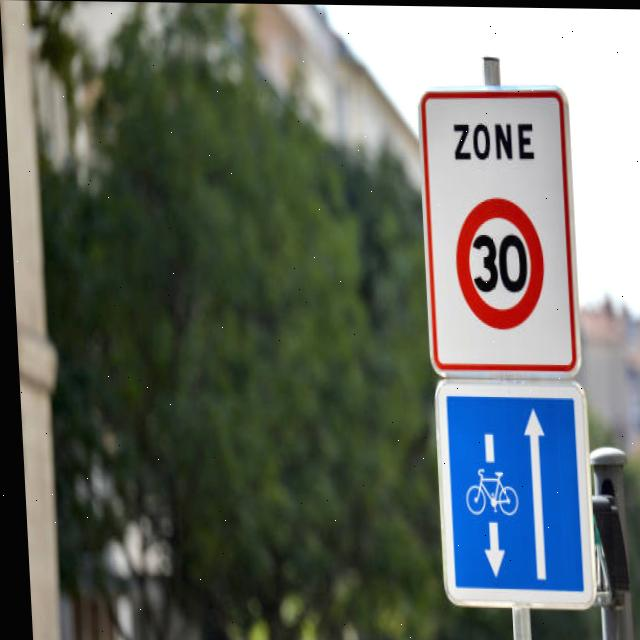Speed limit 30: (449, 193, 549, 337)
